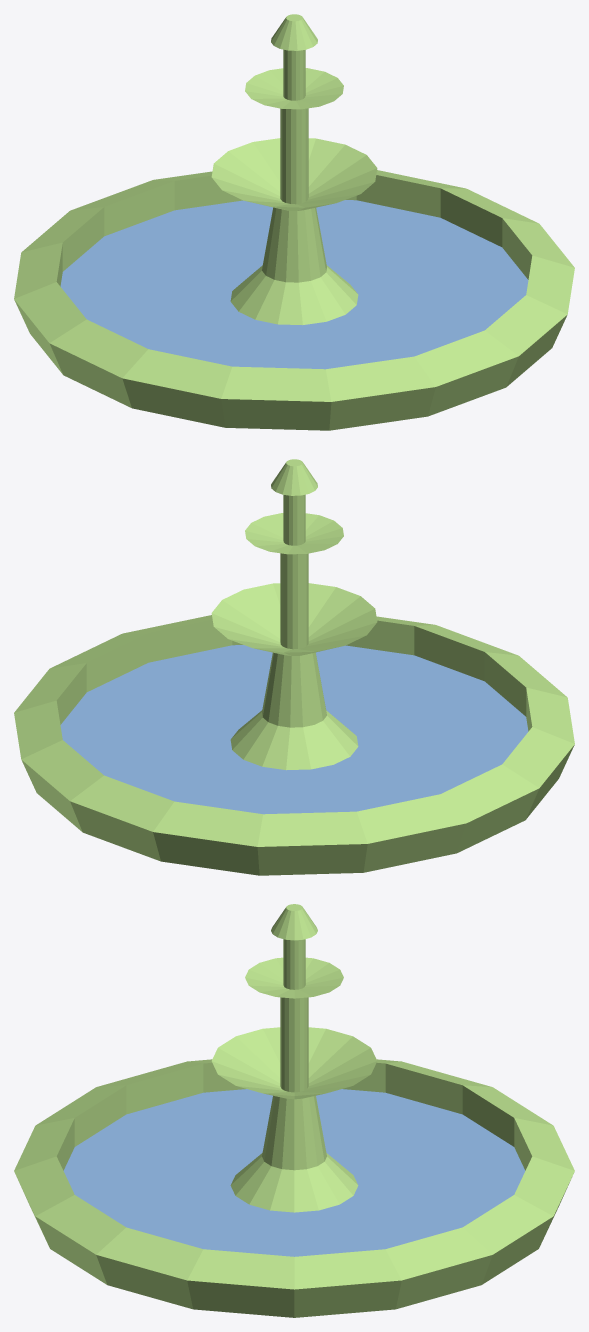
The model's file is fontan.fbx.
3 renders of one model, top to bottom at view 1: azimuth 30°, elevation 25°; view 2: azimuth 150°, elevation 25°; view 3: azimuth 270°, elevation 25°, orthographic.
Visible parts, largest first — view 1: Cylinder; view 2: Cylinder; view 3: Cylinder.
Boxes of the visible parts, x1,y1,x2,y2 form: Cylinder: [14, 14, 574, 430]; Cylinder: [14, 459, 574, 875]; Cylinder: [14, 904, 574, 1317].
Size of the model in its own units: 668 by 392 by 668.
